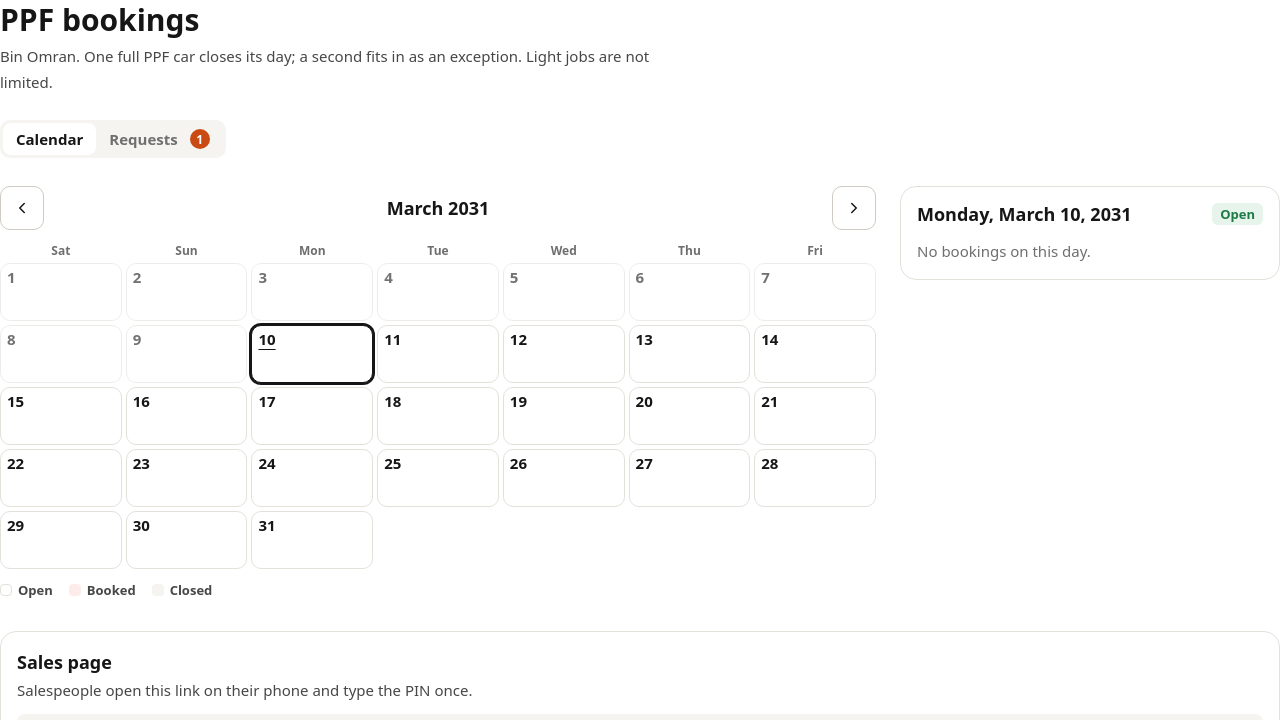
Test: PPF requests inbox › view-only users can read requests but not answer them
Click the tab "Requests 1" at (160, 139), box [96,122,223,155]
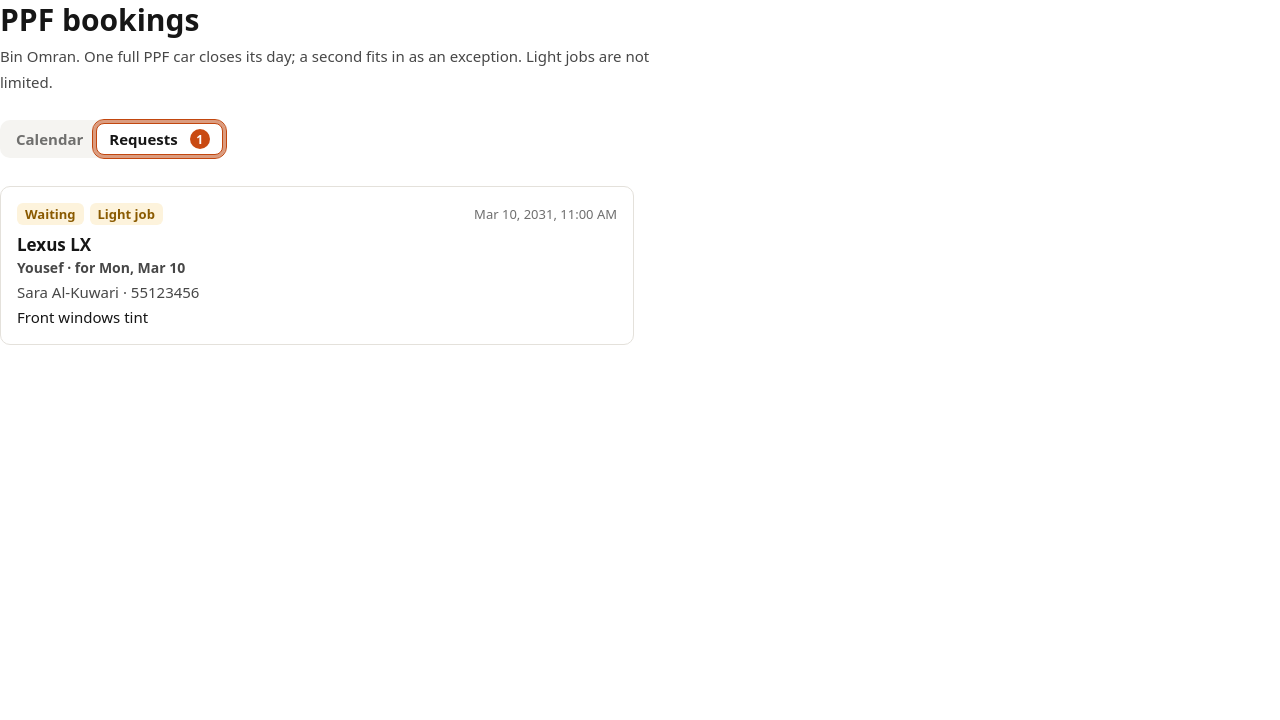
Result: the button is gone
